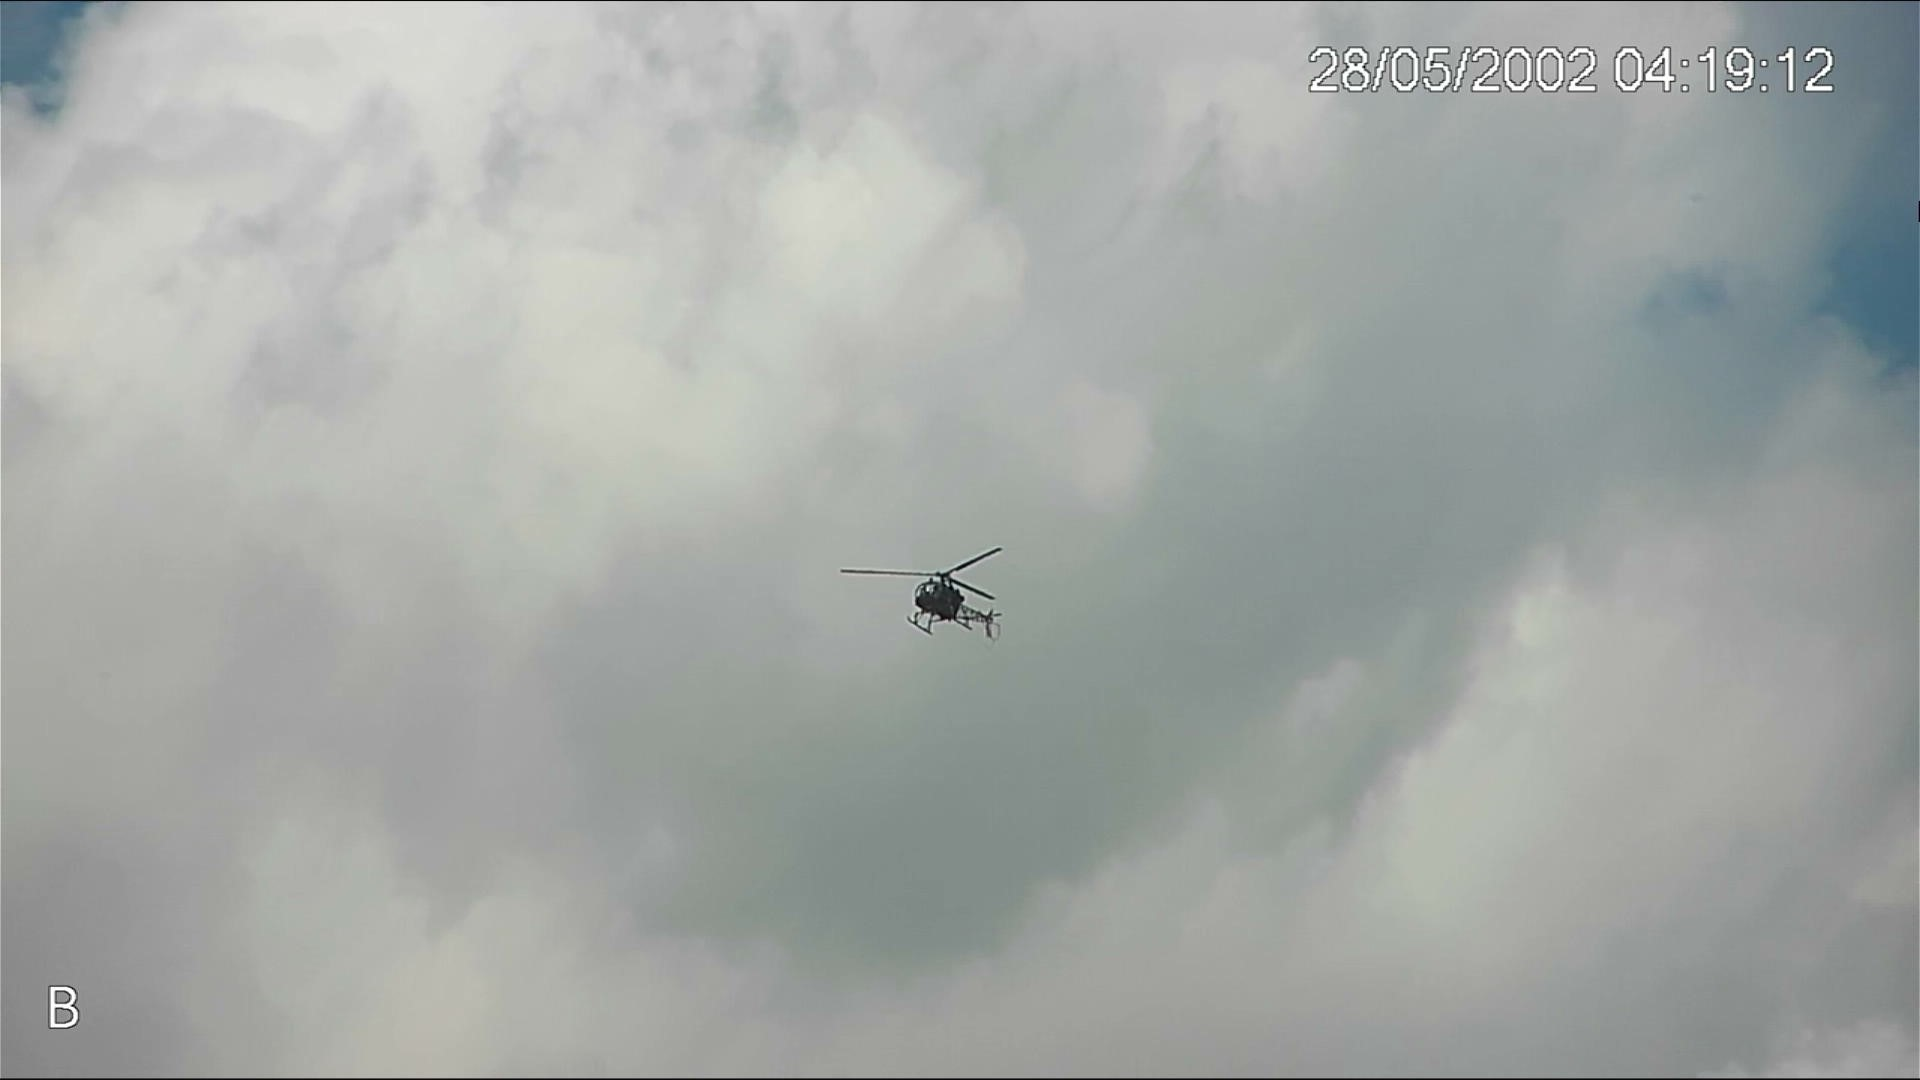SU_30: (897, 563, 1001, 646)
